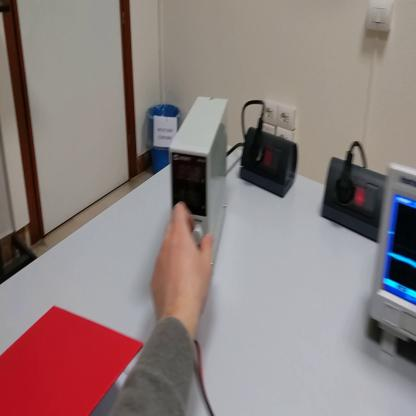hand: (151, 202, 213, 329)
oscilloscope: (371, 158, 416, 355)
power supply: (166, 98, 225, 278)
register: (2, 308, 144, 415)
socket: (320, 155, 388, 244), (239, 126, 301, 199)
